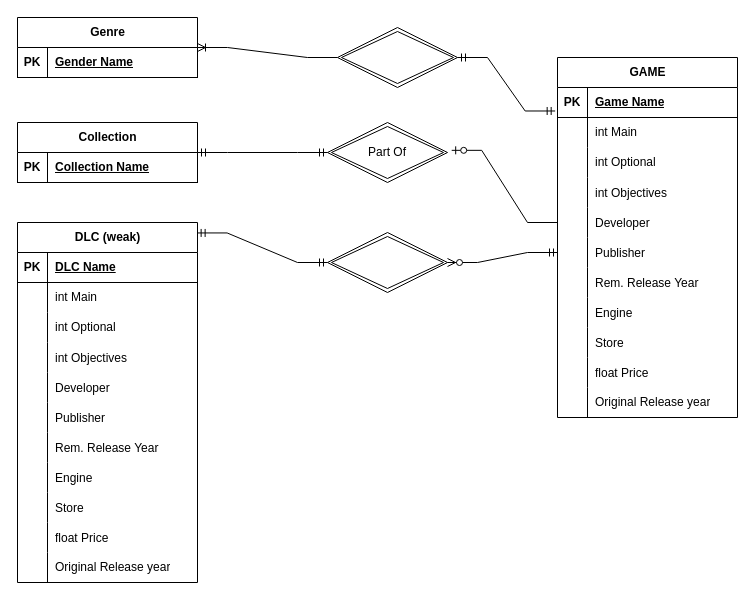
This 755x600 diagram has some shape labels left out. The shapes that lost their labels are listed below. From the top down, each one's centre as x and y in pixels, then its label:
the point at 397,57: Belonging to
the point at 387,262: Has
